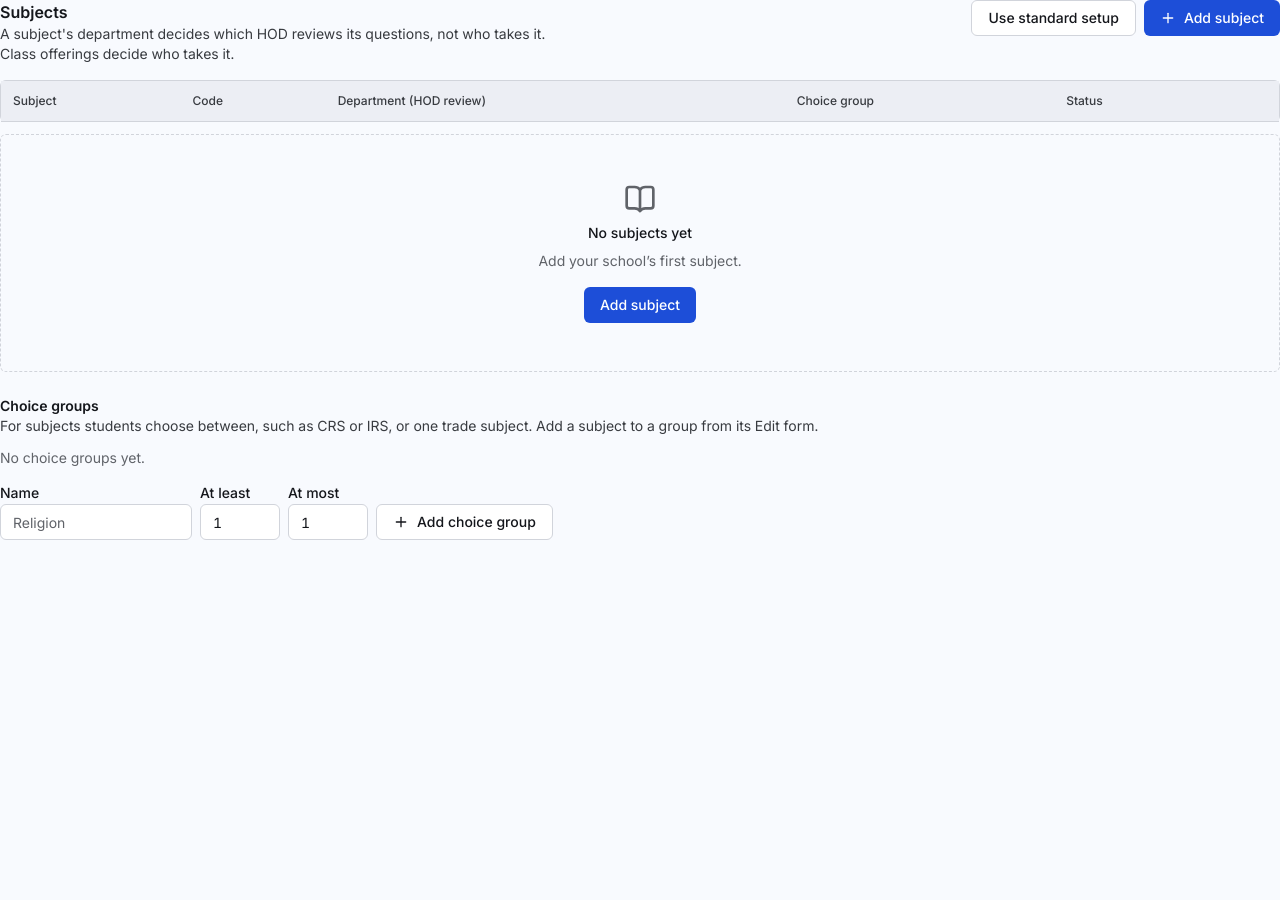
SubjectsScreen › the create form reflects ADR-0001: a department picker with the review-scope help text (exit criterion)
The width and height of the screenshot is (1280, 900).
Click the 1st button "Add subject". click: [1212, 18]
box: [1144,0,1279,36]
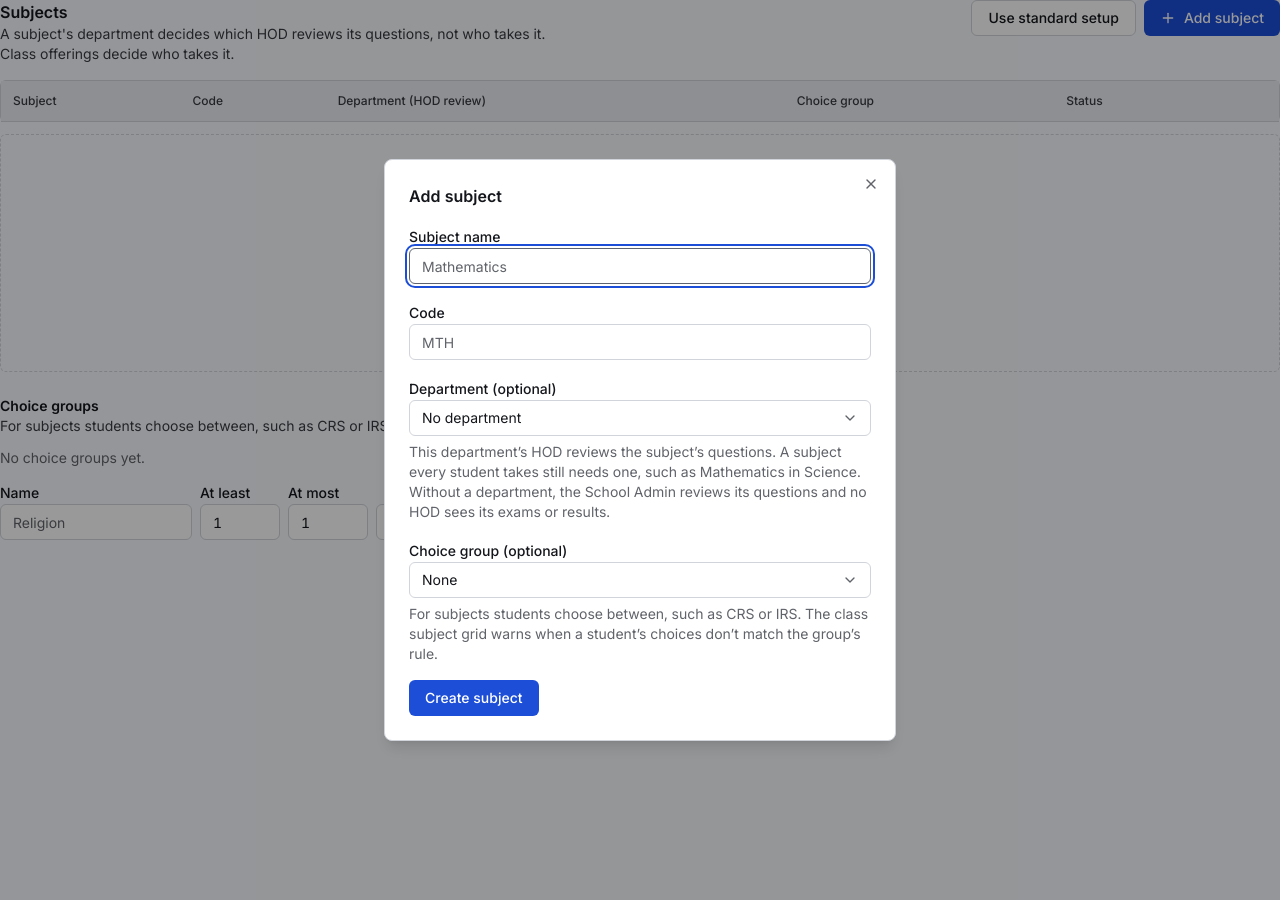
Expected: the text "Department (optional)" is shown, [409,380,557,397]
